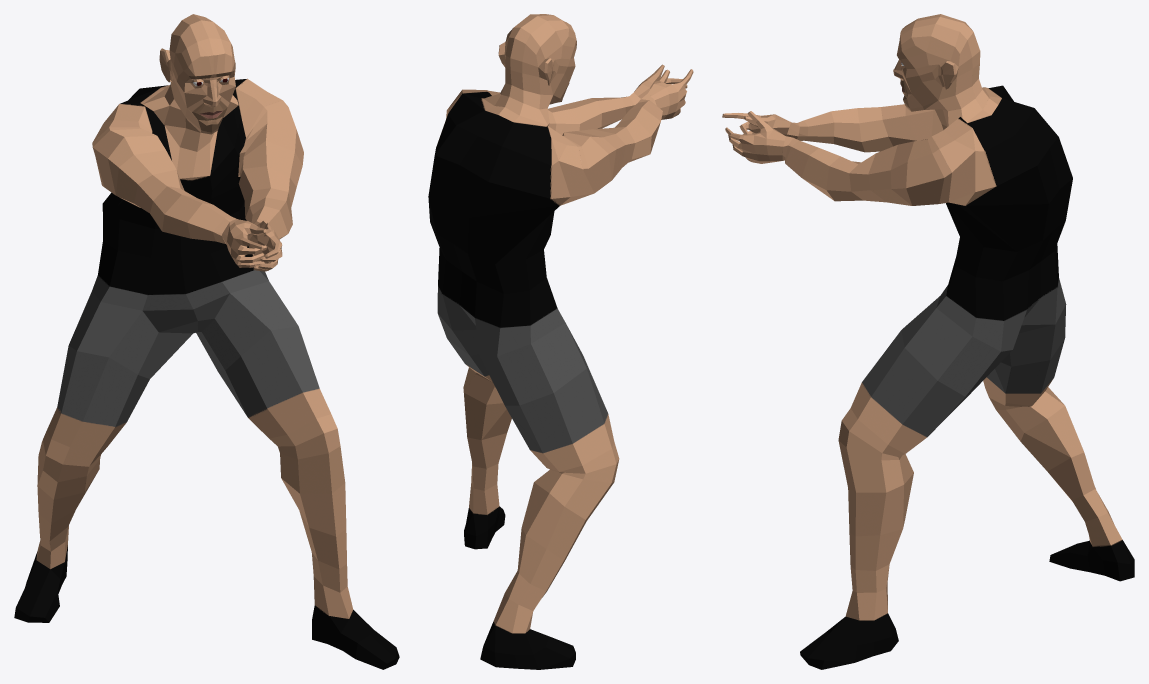
Rendered from PlayerShoot(2).obj.
3 renders of one model, left to right at view 1: azimuth 30°, elevation 25°; view 2: azimuth 150°, elevation 25°; view 3: azimuth 270°, elevation 25°, orthographic. The views are drawn at different scales.
Parts seen in each view (by area): view 1: Plane002; view 2: Plane002; view 3: Plane002.
Boxes of the visible parts, bbox=[...] form: Plane002: bbox=[14, 14, 399, 669]; Plane002: bbox=[428, 14, 693, 669]; Plane002: bbox=[722, 14, 1134, 669].
Size of the model in its own units: 716 by 1665 by 1053.
